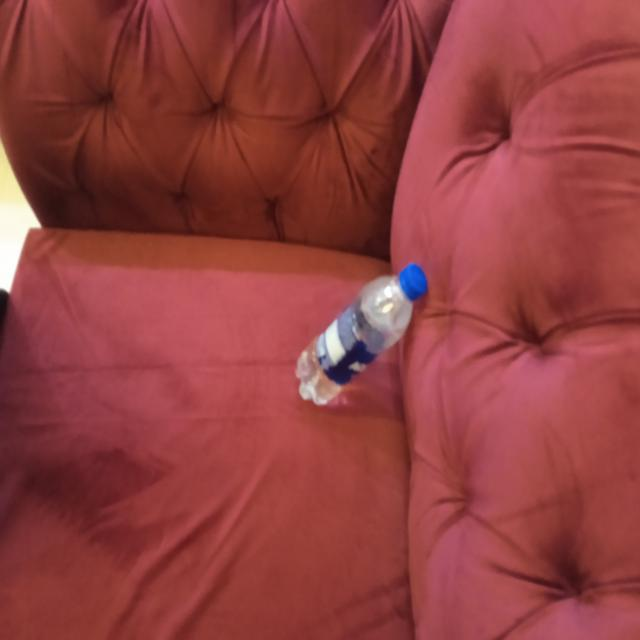Plastic: (297, 266, 425, 408)
